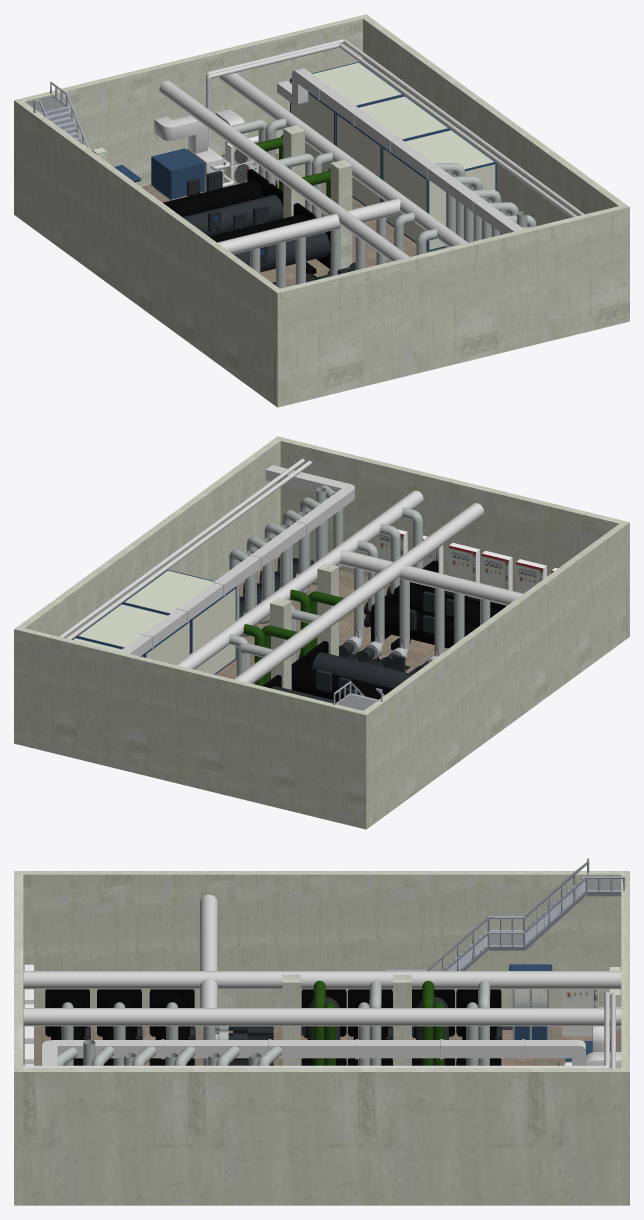
3 views of the same model, one above another, from view 1: azimuth 30°, elevation 25°; view 2: azimuth 150°, elevation 25°; view 3: azimuth 270°, elevation 25° (orthographic). The views are drawn at different scales.
Visible parts, largest first — view 1: 立方体185, 立方体184, 立方体371, 立方体182, 立方体776, 立方体655, 平面179, 平面175, 立方体653, 立方体179, 平面171, 平面083 (+14 smaller); view 2: 立方体371, 立方体184, 立方体185, 立方体182, 立方体776, 平面179, 立方体655, 平面175, 立方体653, 机房地面, 平面384, 柱体285 (+18 smaller); view 3: 立方体182, 立方体184, 平面175, 平面179, 立方体776, 立方体185, 立方体371, 机房地面, 平面171, 平面368, 立方体780_2, 平面384 (+21 smaller).
Part boxes in pixels (x1,y1,x2,y2): 立方体185: (273, 204, 629, 407); 立方体184: (17, 101, 279, 404); 立方体371: (14, 14, 369, 216); 立方体182: (363, 17, 625, 225); 立方体776: (277, 68, 523, 234); 立方体655: (383, 130, 495, 249); 平面179: (159, 80, 409, 261); 平面175: (220, 73, 467, 246); 立方体653: (337, 96, 447, 205); 立方体179: (291, 62, 401, 172); 平面171: (206, 43, 577, 217); 平面083: (206, 39, 584, 215); 立方体371: (14, 626, 369, 829); 立方体184: (364, 523, 625, 826); 立方体185: (274, 436, 629, 639); 立方体182: (18, 439, 280, 638); 立方体776: (119, 465, 354, 656); 平面179: (234, 503, 484, 683); 立方体655: (125, 570, 235, 674); 平面175: (176, 490, 423, 669); 立方体653: (79, 604, 189, 664); 机房地面: (215, 555, 448, 684); 平面384: (400, 565, 523, 605); 柱体285: (312, 652, 412, 688); 立方体182: (23, 1068, 621, 1205); 立方体184: (23, 871, 621, 1007); 平面175: (23, 1008, 621, 1026); 平面179: (23, 971, 621, 989); 立方体776: (42, 1040, 585, 1065); 立方体185: (14, 871, 23, 1205); 立方体371: (621, 871, 629, 1205); 机房地面: (23, 1008, 621, 1065); 平面171: (23, 991, 609, 1067); 平面368: (393, 876, 625, 1000); 立方体780_2: (441, 876, 587, 970); 平面384: (199, 894, 217, 970).
Bounding box in the file's own units: 84.66 × 29.36 × 110.
33 materials, 5 textured.
